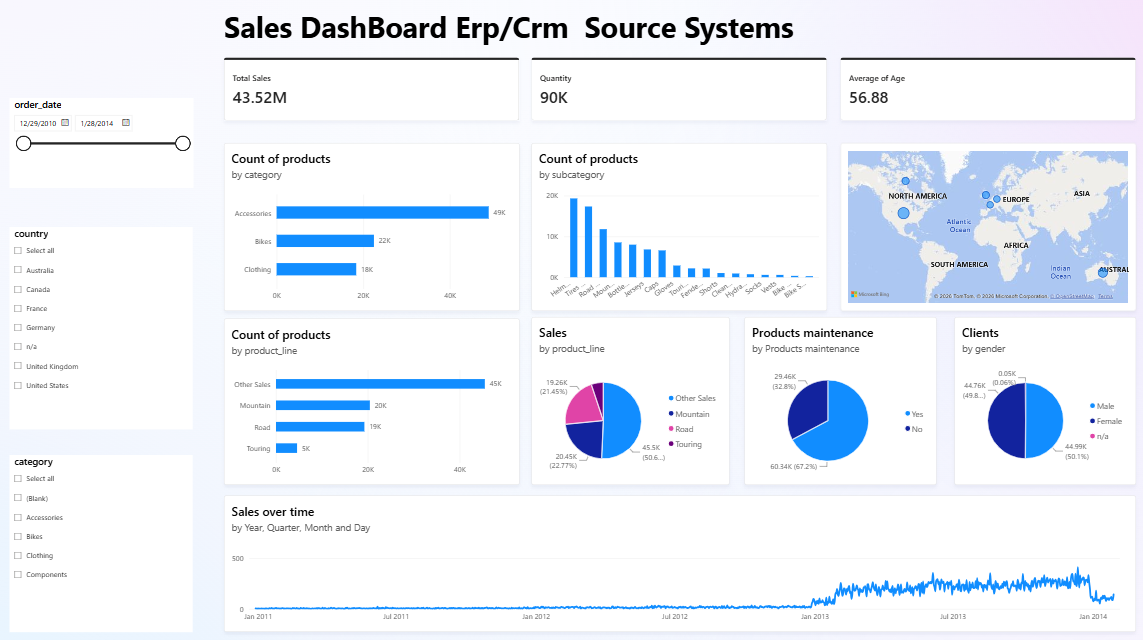

This screenshot's page, from the dashboard's own definition file:
{"tool":"powerbi","page":{"name":"Page 1","canvas":[1920,1080],"ordinal":0},"visuals":[{"type":"pieChart","fields":{"Category":["dim_customers.gender"],"Y":["CountNonNull(fact_sales.customer_key)"]},"box":[1597.5,530,302.5,280],"z":0},{"type":"columnChart","fields":{"Category":["dim_products.subcategory"],"Y":["CountNonNull(fact_sales.customer_key)"]},"box":[892.5,240,492.5,280],"z":3000},{"type":"cardVisual","fields":{"Data":["Sum(fact_sales.total_sales)"]},"box":[380,97.5,492.5,105],"z":4000},{"type":"cardVisual","fields":{"Data":["Sum(fact_sales.quantity)"]},"box":[892.5,97.5,492.5,105],"z":5000},{"type":"lineChart","fields":{"Category":["fact_sales.order_date.Variation.Date Hierarchy.Year","fact_sales.order_date.Variation.Date Hierarchy.Quarter","fact_sales.order_date.Variation.Date Hierarchy.Month","fact_sales.order_date.Variation.Date Hierarchy.Day"],"Y":["CountNonNull(fact_sales.customer_key)"]},"box":[380,827.5,1520,227.5],"z":7000},{"type":"map","fields":{"Category":["dim_customers.country"],"Size":["CountNonNull(fact_sales.customer_key)"]},"box":[1407.5,240,492.5,280],"z":8000},{"type":"slicer","fields":{"Values":["fact_sales.order_date"]},"box":[22.5,165,305,150],"z":9000},{"type":"slicer","fields":{"Values":["dim_customers.country"]},"box":[22.5,380,305,337.5],"z":10000},{"type":"slicer","fields":{"Values":["dim_products.category"]},"box":[22.5,760,305,295],"z":11000},{"type":"pieChart","fields":{"Category":["dim_products.product_line"],"Y":["CountNonNull(fact_sales.customer_key)"]},"box":[892.5,530,330,280],"z":12000},{"type":"pieChart","fields":{"Y":["CountNonNull(fact_sales.customer_key)"],"Category":["dim_products.maintenance_flag"]},"box":[1247.5,530,320,280],"z":13000},{"type":"cardVisual","fields":{"Data":["Avg(dim_customers.Age)"]},"box":[1407.5,97.5,492.5,105],"z":14000},{"type":"textbox","box":[380,12.5,1142.5,75],"z":15000},{"type":"barChart","fields":{"Category":["dim_products.category"],"Y":["CountNonNull(fact_sales.customer_key)"]},"box":[380,240,492.5,280],"z":15001},{"type":"barChart","fields":{"Category":["dim_products.product_line"],"Y":["CountNonNull(fact_sales.customer_key)"]},"box":[380,532.5,492.5,277.5],"z":15002}]}

Visuals, with their boxes on the page's 1920x1080 design canvas (x1, y1, x2, y2). These are canvas units, not pixel positions in the 1143x640 screenshot, which may show the page scaled, cropped or inside an application window:
pieChart - dim_customers.gender x CountNonNull(fact_sales.customer_key): [1598, 530, 1900, 810]
columnChart - dim_products.subcategory x CountNonNull(fact_sales.customer_key): [892, 240, 1385, 520]
cardVisual - Sum(fact_sales.total_sales): [380, 98, 872, 202]
cardVisual - Sum(fact_sales.quantity): [892, 98, 1385, 202]
lineChart - fact_sales.order_date.Variation.Date Hierarchy.Year x fact_sales.order_date.Variation.Date Hierarchy.Quarter: [380, 828, 1900, 1055]
map - dim_customers.country x CountNonNull(fact_sales.customer_key): [1408, 240, 1900, 520]
slicer - fact_sales.order_date: [22, 165, 328, 315]
slicer - dim_customers.country: [22, 380, 328, 718]
slicer - dim_products.category: [22, 760, 328, 1055]
pieChart - dim_products.product_line x CountNonNull(fact_sales.customer_key): [892, 530, 1222, 810]
pieChart - CountNonNull(fact_sales.customer_key) x dim_products.maintenance_flag: [1248, 530, 1568, 810]
cardVisual - Avg(dim_customers.Age): [1408, 98, 1900, 202]
textbox: [380, 12, 1522, 88]
barChart - dim_products.category x CountNonNull(fact_sales.customer_key): [380, 240, 872, 520]
barChart - dim_products.product_line x CountNonNull(fact_sales.customer_key): [380, 532, 872, 810]
